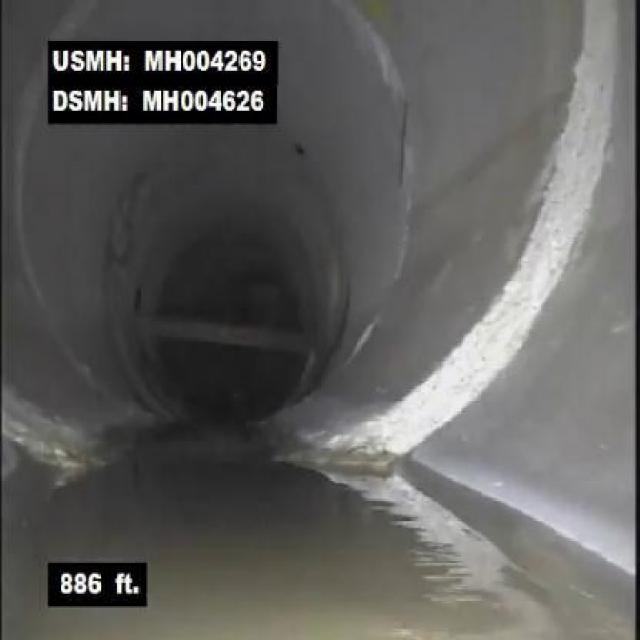Joint offset: (504, 0, 624, 282), (408, 286, 554, 460)
